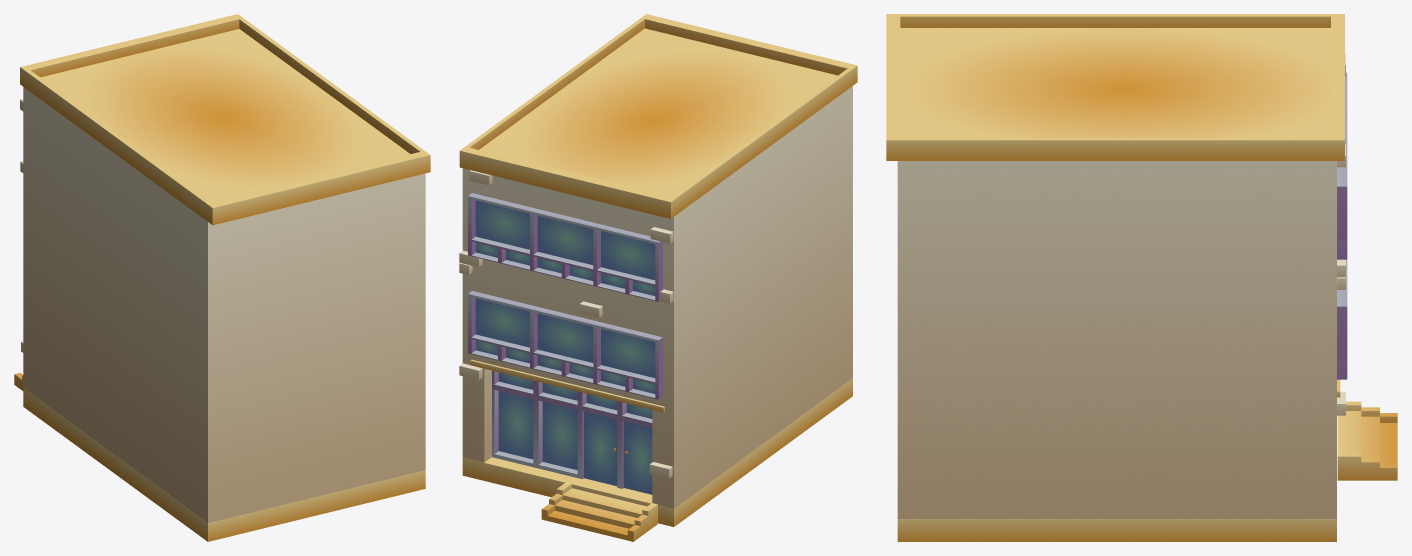
3 renders of one model, left to right at view 1: azimuth 30°, elevation 25°; view 2: azimuth 150°, elevation 25°; view 3: azimuth 270°, elevation 25°, orthographic. The views are drawn at different scales.
Visible parts, largest first — view 1: SM_3F_R_02; view 2: SM_3F_R_02; view 3: SM_3F_R_02.
Boxes of the visible parts, x1,y1,x2,y2 form: SM_3F_R_02: (14, 14, 430, 541); SM_3F_R_02: (459, 14, 857, 541); SM_3F_R_02: (886, 14, 1397, 541).
Bounding box in the file's own units: 7.71 × 13.17 × 11.44.
